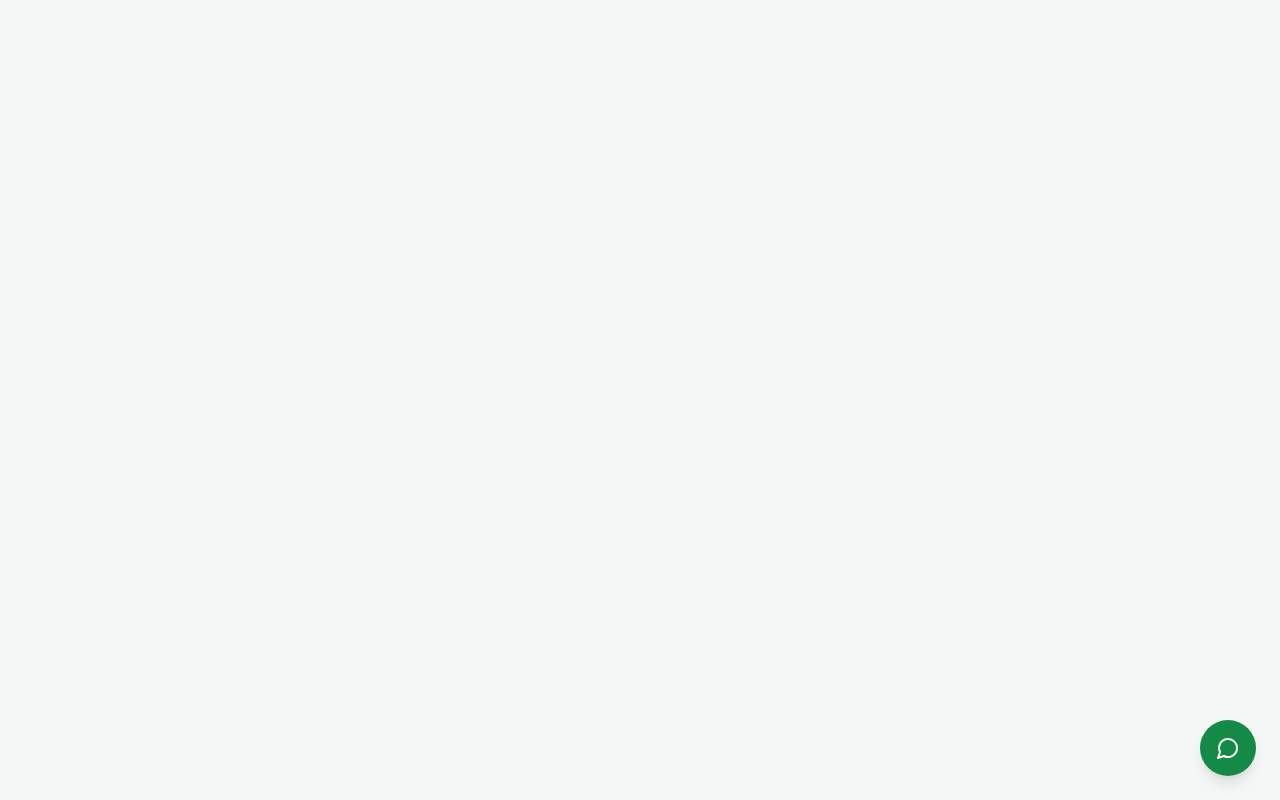
Test case: Recipe chat › offers to save a suggested change as a new recipe, and opens it in the editor
Later steps or results of the test are not shown.
Click the button named "Open recipe chat". click: (1228, 748)
box: [1200,720,1256,776]
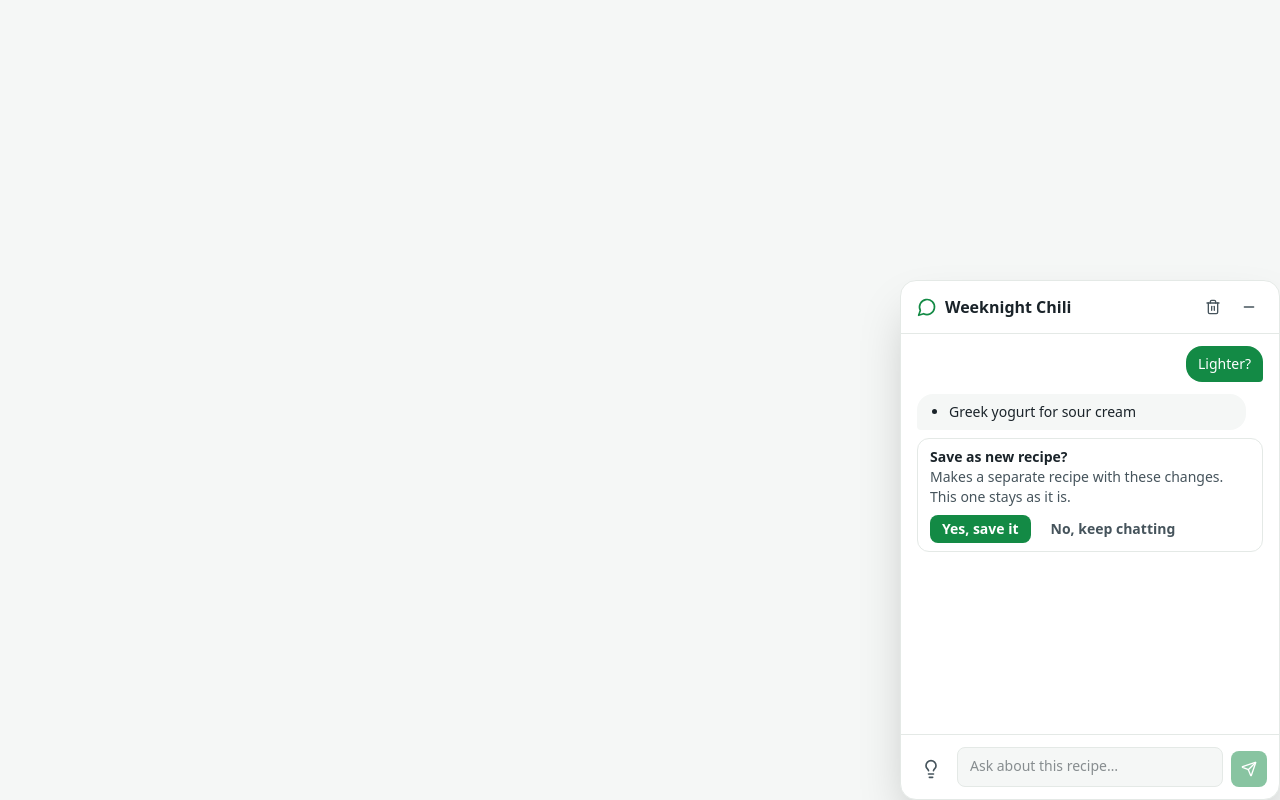
Check: the text "Save as new recipe?" is shown, box [930,447,1068,466]
